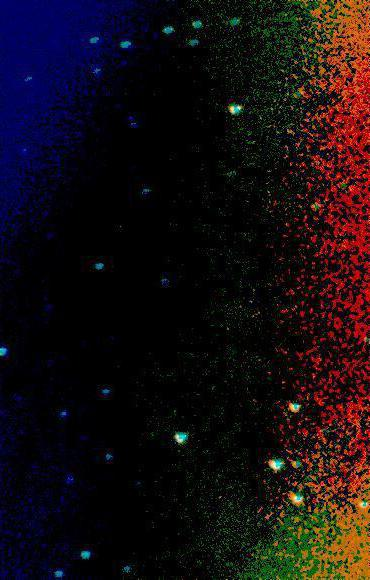star: (338, 177, 368, 207)
